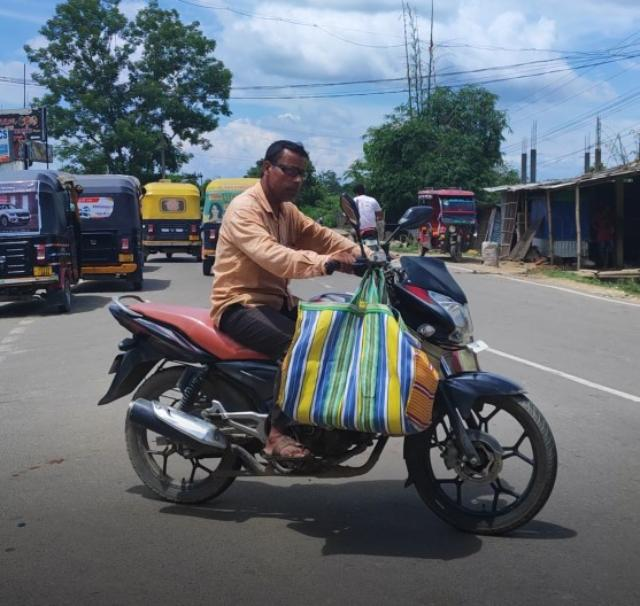motorcycle: (83, 137, 559, 538)
withoutHelmet: (262, 145, 316, 196)
